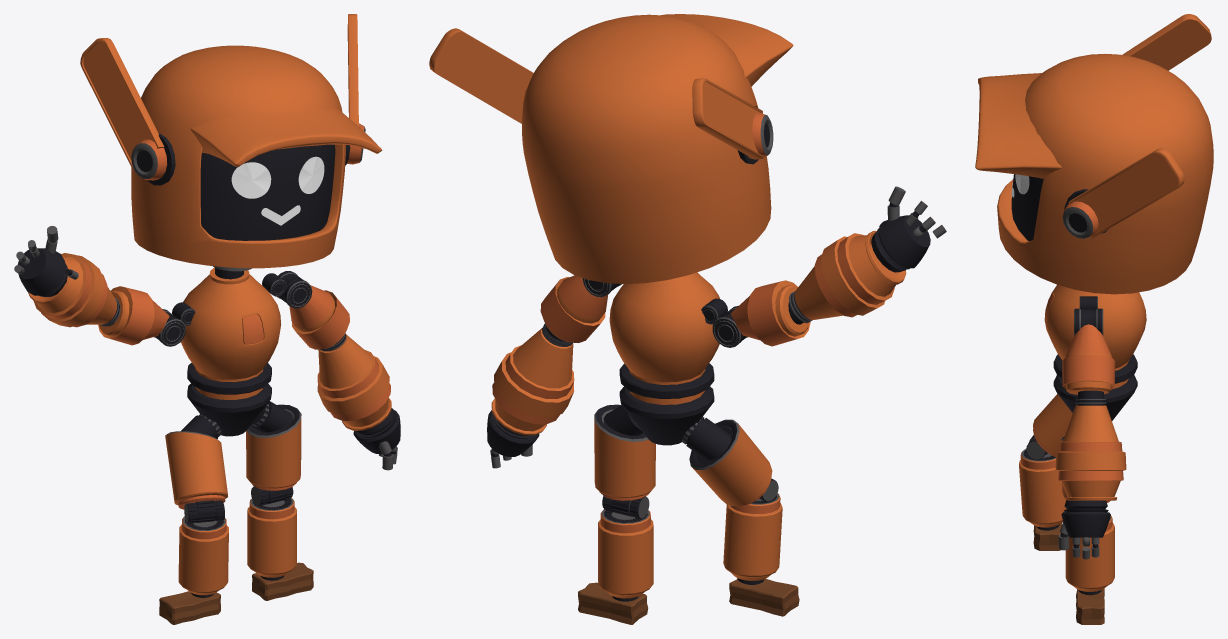
File: robot_full.glb
3 views of the same model, side by side, from view 1: azimuth 30°, elevation 25°; view 2: azimuth 150°, elevation 25°; view 3: azimuth 270°, elevation 25° (orthographic). The views are drawn at different scales.
Parts seen in each view (by area): view 1: Head, body, l_hand, r_leg, r_thigh, l_thigh, l_leg, r_hand, l_shoulder, r_shoulder, r_palm, r_foot.001 (+2 smaller); view 2: Head, body, l_hand, r_hand, r_thigh, l_leg, l_thigh, r_leg, r_shoulder, l_shoulder, r_palm, r_foot.001 (+2 smaller); view 3: Head, body, l_hand, l_shoulder, r_leg, l_palm, l_leg, r_thigh, l_foot.001, r_foot.001.
Boxes of the visible parts, box(x1,y1,x2,y2) form: Head: box(80, 14, 382, 271); body: box(181, 267, 281, 436); l_hand: box(317, 333, 391, 430); r_leg: box(178, 500, 228, 597); r_thigh: box(165, 414, 227, 509); l_thigh: box(246, 401, 301, 490); l_leg: box(247, 486, 296, 580); r_hand: box(28, 253, 120, 327); l_shoulder: box(262, 271, 349, 349); r_shoulder: box(98, 286, 195, 346); r_palm: box(14, 226, 78, 296); r_foot.001: box(159, 591, 220, 624); Head: box(429, 14, 793, 283); body: box(609, 272, 719, 445); l_hand: box(491, 323, 574, 435); r_hand: box(788, 230, 906, 324); r_thigh: box(681, 417, 772, 506); l_leg: box(598, 496, 653, 601); l_thigh: box(594, 404, 655, 500); r_leg: box(723, 478, 782, 584); r_shoulder: box(701, 280, 810, 347); l_shoulder: box(540, 275, 621, 342); r_palm: box(871, 186, 946, 272); r_foot.001: box(729, 578, 799, 616); Head: box(975, 14, 1213, 294); body: box(1044, 284, 1146, 420); l_hand: box(1055, 390, 1126, 500); l_shoulder: box(1062, 296, 1115, 394); r_leg: box(1019, 435, 1066, 530); l_palm: box(1058, 500, 1110, 559); l_leg: box(1065, 515, 1114, 595); r_thigh: box(1033, 394, 1072, 456); l_foot.001: box(1076, 588, 1104, 624); r_foot.001: box(1033, 523, 1061, 550).
Bounding box in the file's own units: 4.56 × 5.91 × 2.38.
